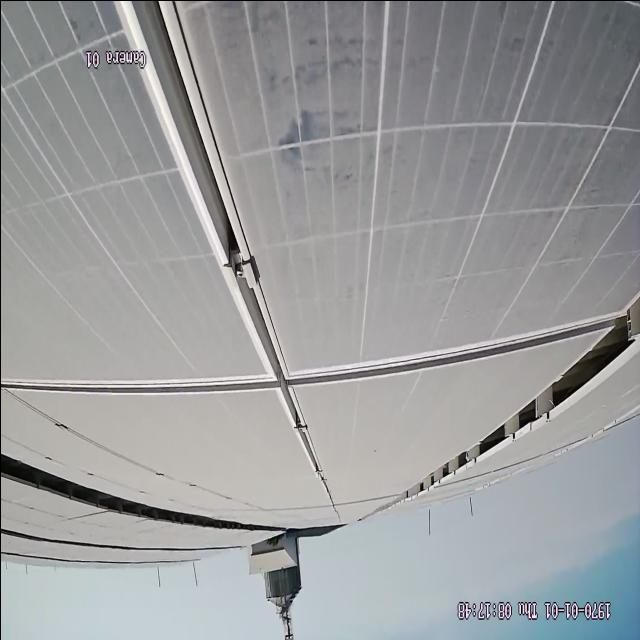interior panel: (114, 11, 328, 498), (297, 322, 574, 391), (18, 368, 265, 399)
outher panel: (408, 289, 633, 495), (9, 441, 271, 535)
